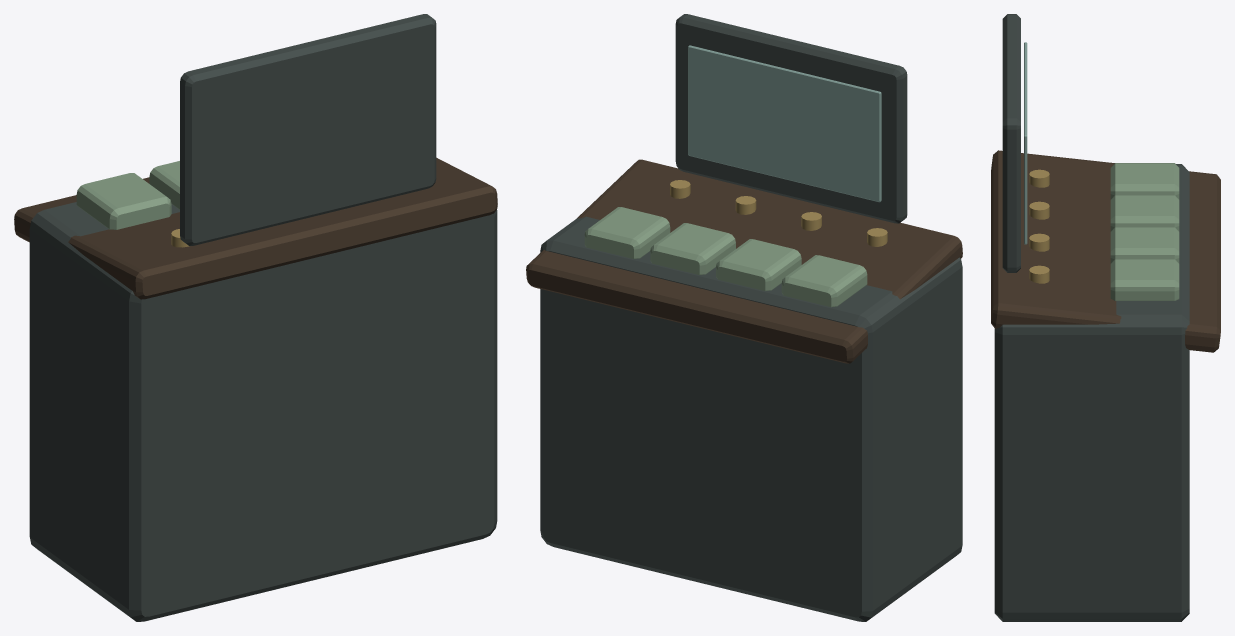
File: console.glb
3 views of the same model, side by side, from view 1: azimuth 30°, elevation 25°; view 2: azimuth 150°, elevation 25°; view 3: azimuth 270°, elevation 25° (orthographic). The views are drawn at different scales.
Parts seen in each view (by area): view 1: console; view 2: console; view 3: console.
Boxes of the visible parts, x1=… form: console: x1=14, y1=14, x2=497, y2=621; console: x1=526, y1=14, x2=962, y2=621; console: x1=991, y1=14, x2=1220, y2=621.
Size of the model in its own units: 1.67 by 2.31 by 1.
